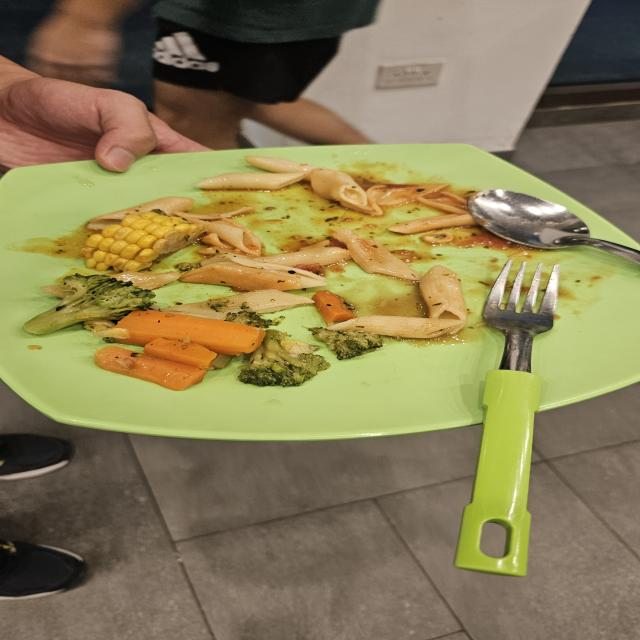Green veg: (24, 273, 155, 335), (238, 330, 329, 387), (307, 327, 382, 360), (226, 308, 277, 328)
Non green veg: (95, 311, 265, 390), (85, 212, 205, 270), (312, 291, 356, 326), (130, 244, 135, 247)
